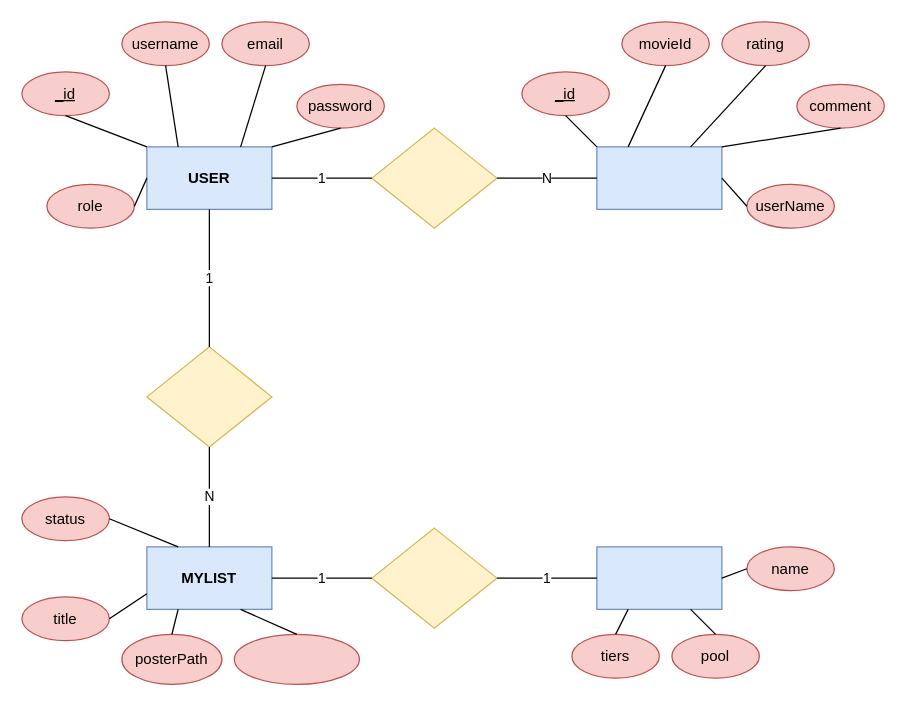
Some shapes in this 906 by 706 pixel diagram are drawn without their labels. The shapes that lost their labels are listed below. From the top down, each one's box as (x1, y1, x2, y2) in pixels, then its label:
(371, 127, 497, 228): Writes
(596, 146, 722, 209): REVIEW
(146, 346, 272, 447): Curates
(371, 527, 497, 628): Ranks
(596, 546, 722, 609): TIERLIST
(233, 633, 359, 684): personalRating
